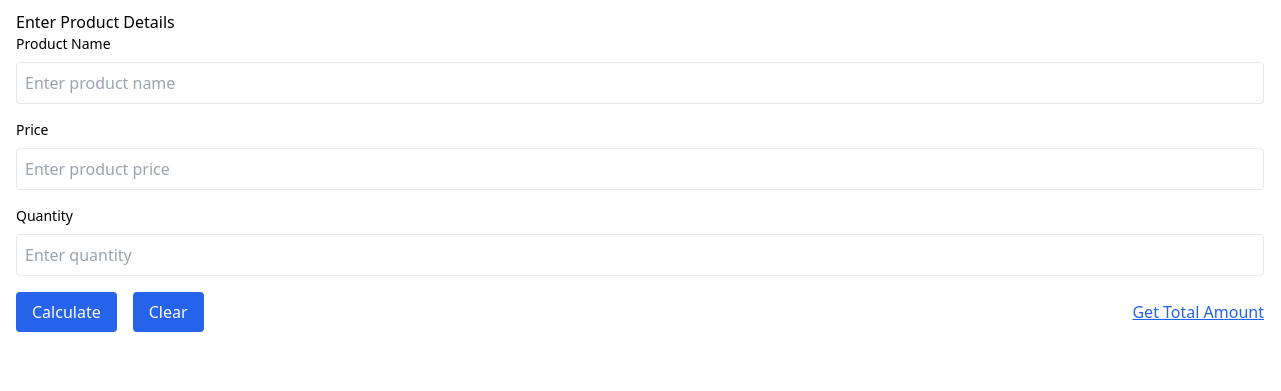
Test: Tests for Product Detail Component › calculates total amount using hyperlink
Type "50" into the number field with placeholder "Enter product price". click: x=640, y=169
box: [16,148,1264,190]
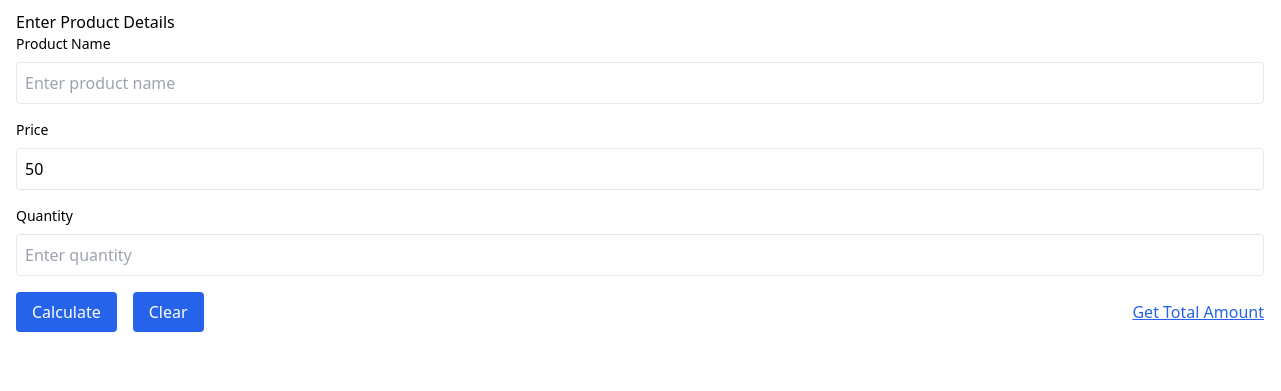
Type "3" into the number field with placeholder "Enter quantity". click: x=640, y=255
box: [16,234,1264,276]
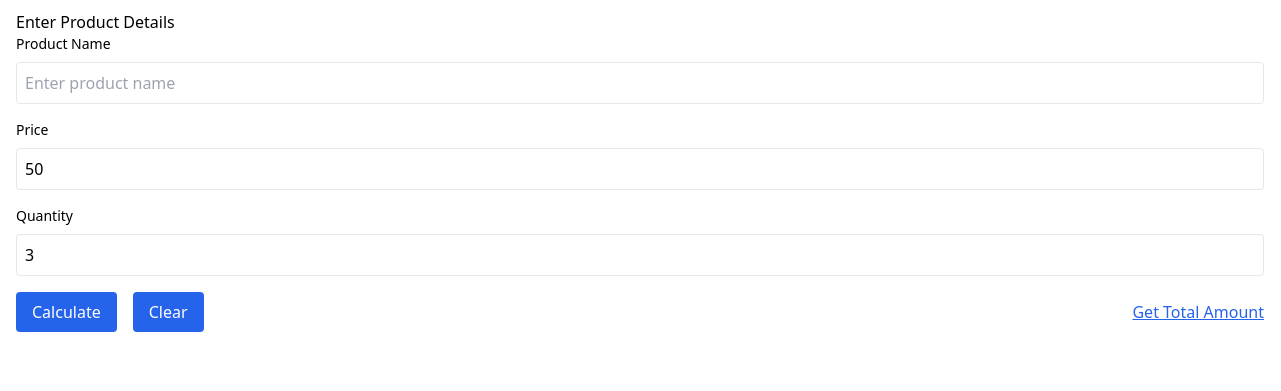
Click the link "Get Total Amount". click: x=1198, y=312
box: [1132,300,1264,324]
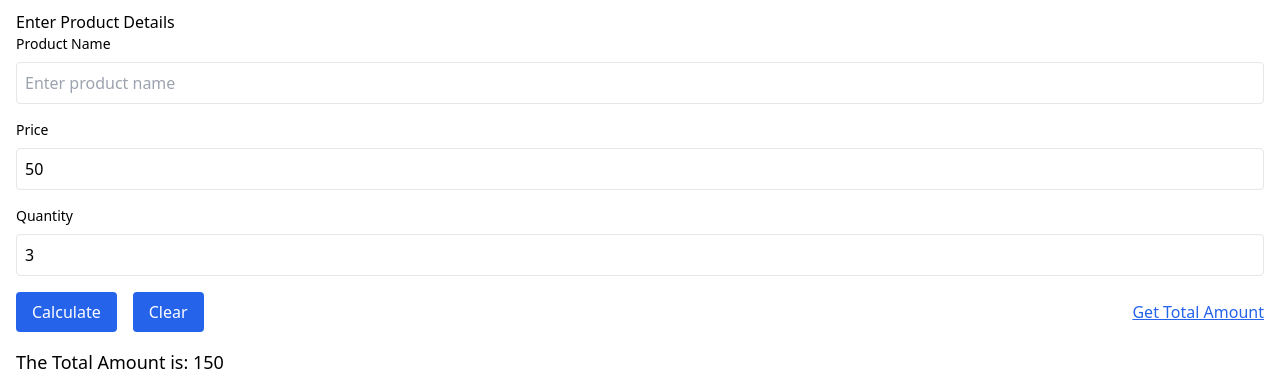
Result: the text "The Total Amount is: 150" is shown at [16,350,224,374]
